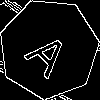A: (24, 23, 80, 80)
